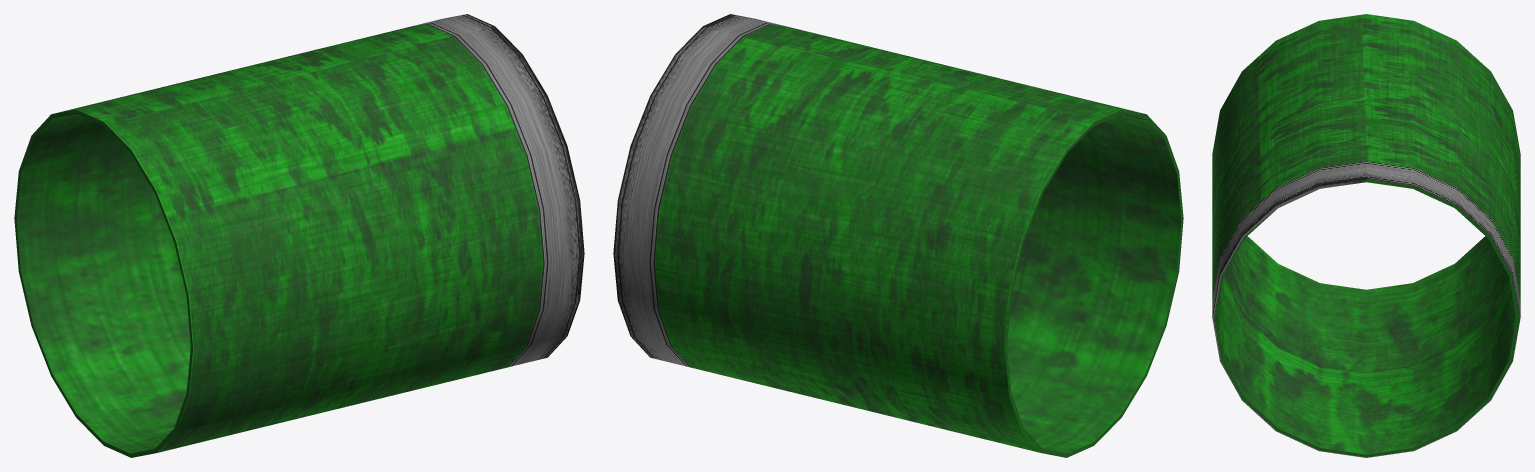
Rendered from CubeBaseFrontPipeRightG.fbx.
The picture shows the model from 3 angles, left to right: view 1: azimuth 30°, elevation 25°; view 2: azimuth 150°, elevation 25°; view 3: azimuth 270°, elevation 25°; orthographic projection. The views are drawn at different scales.
Parts seen in each view (by area): view 1: pPipe1; view 2: pPipe1; view 3: pPipe1.
Part boxes in pixels (x1,y1,x2,y2): pPipe1: [14, 14, 584, 457]; pPipe1: [613, 14, 1183, 457]; pPipe1: [1212, 14, 1520, 457].
Bounding box in the file's own units: 1.01 × 0.8 × 0.8.
1 material, 1 textured.
